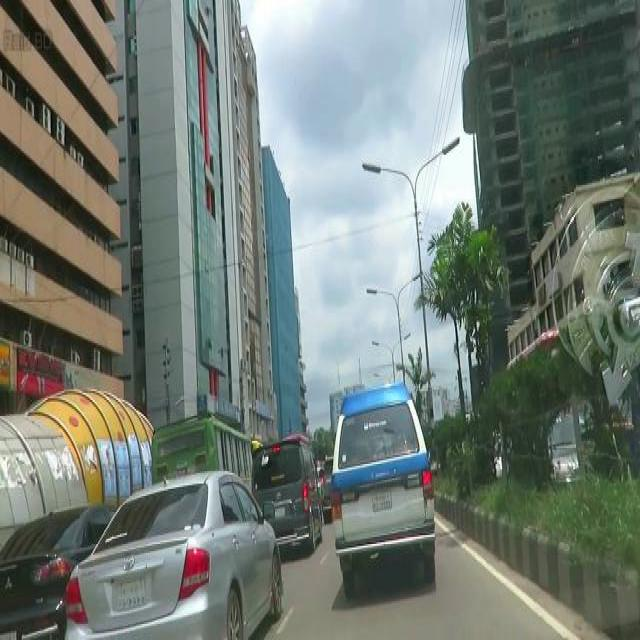vehicle: (64, 470, 287, 639), (329, 377, 441, 606), (251, 436, 325, 554), (145, 416, 257, 482)
